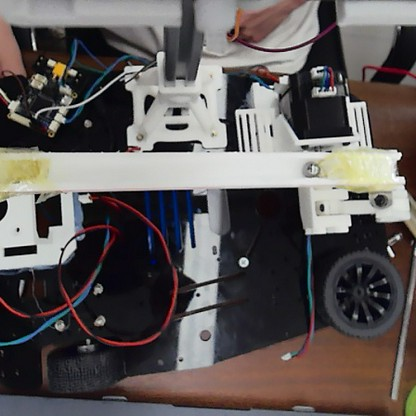ironball: (300, 157, 322, 179)
